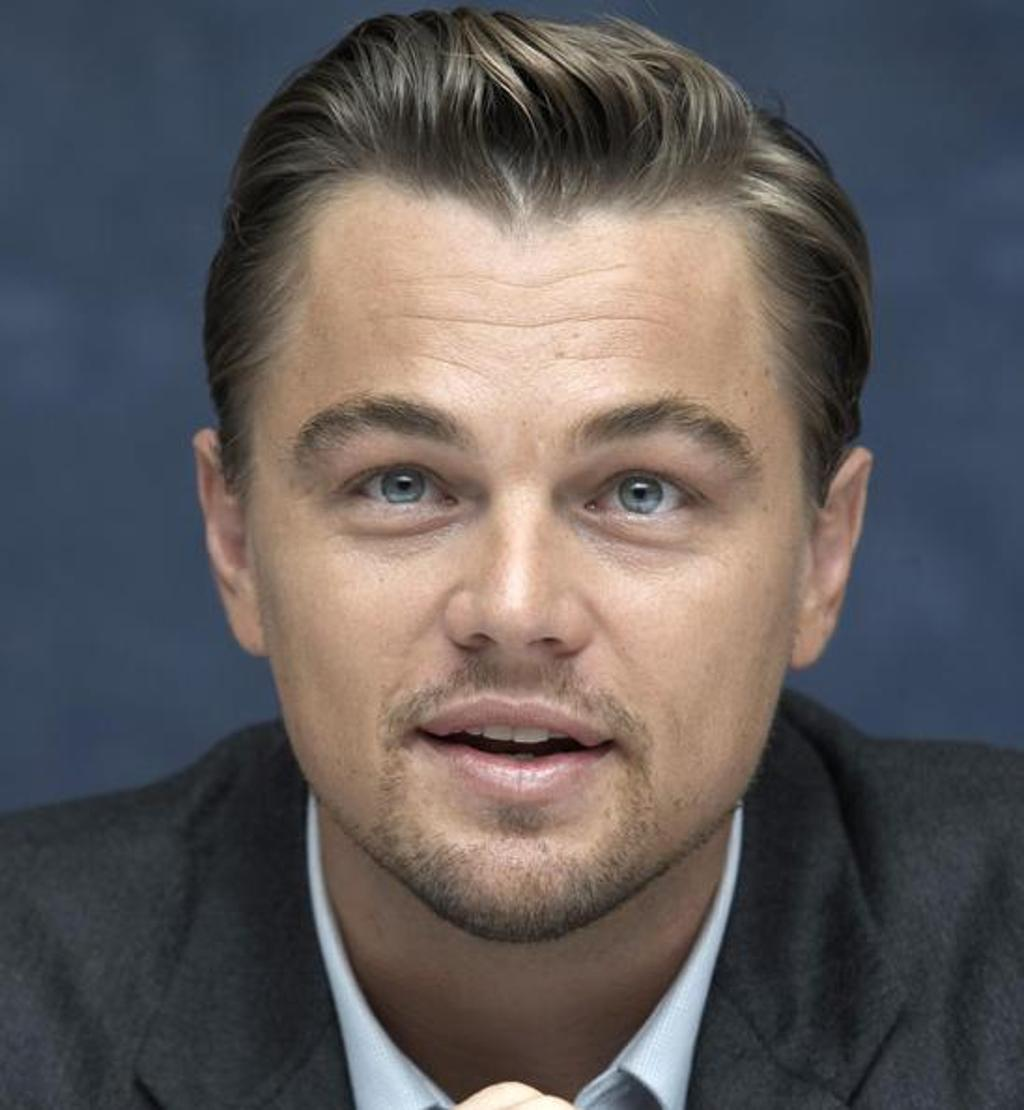face: (256, 180, 811, 931)
